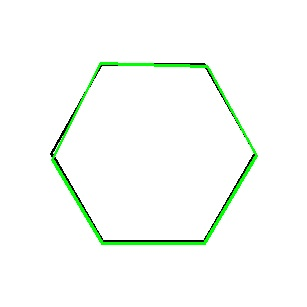line_segment: (50, 62, 257, 244)
